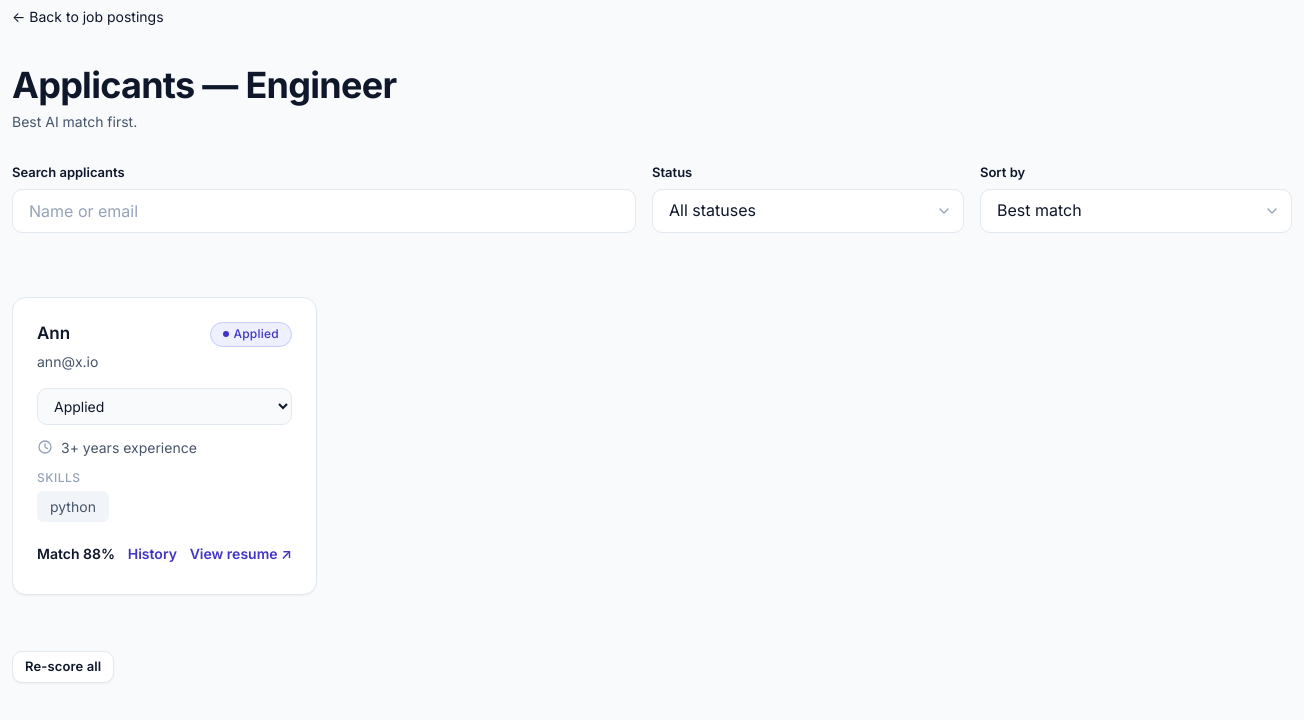
Test: JobApplicants › applies search and status filters through the API and shows a filtered empty state
Expected: the text "Ann" is shown, x1=37 y1=322 x2=70 y2=346
Select "Selected" in the dropdown labelled "Status": {"x": 808, "y": 211} x1=652 y1=189 x2=964 y2=233
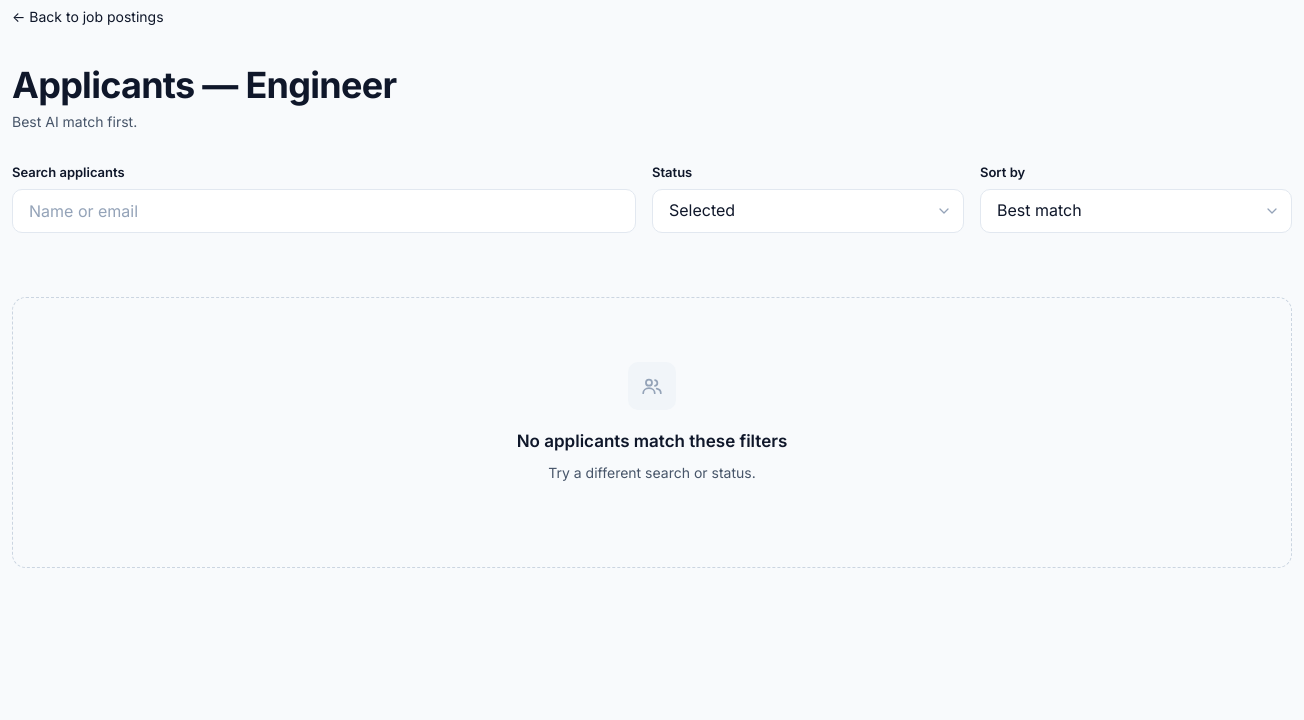
Expected: the text "No applicants match these filters" is shown, x1=517 y1=430 x2=787 y2=454
